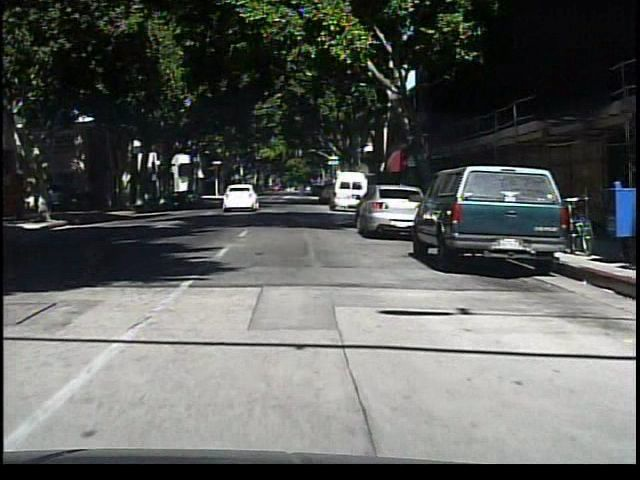person: (41, 179, 59, 223), (294, 177, 312, 206)
